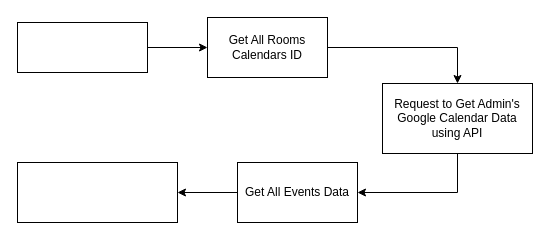
Image size: 550x240. Some labels were removed from this diagram. The centre of each missing label's shape, as x and y in pixels:
FullCalendar Display: [82,47]
Tie and display them all into one calendar display: [97,192]
